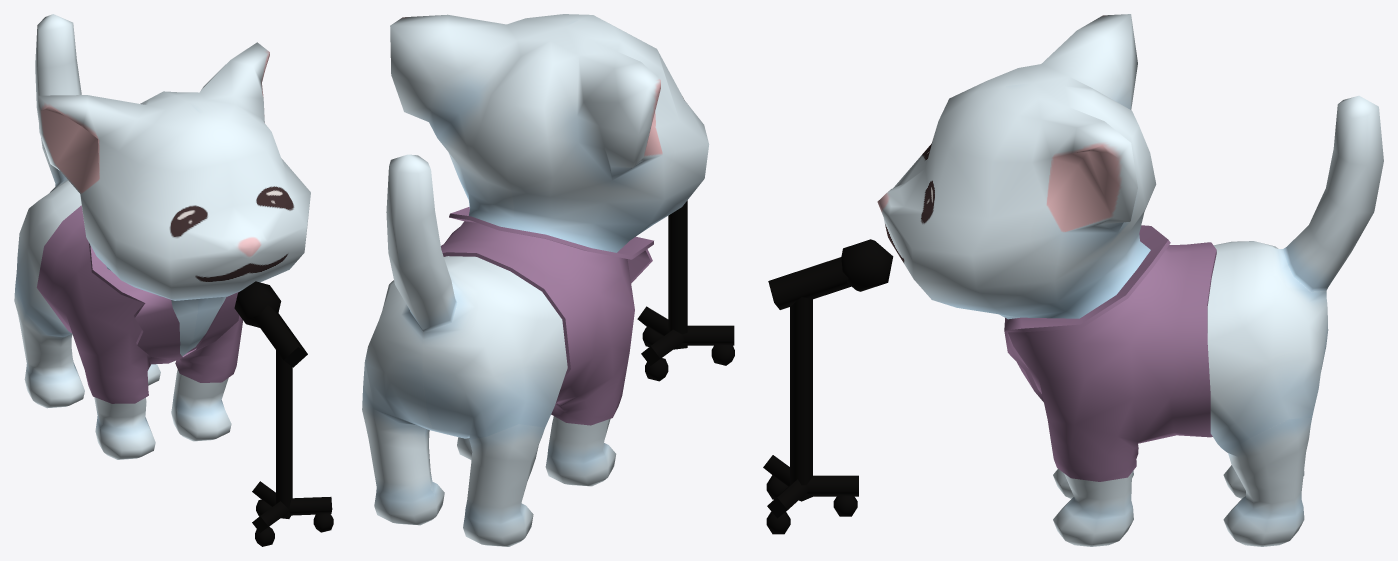
Rendered from Singer Cat05.fbx.
The picture shows the model from 3 angles, left to right: view 1: azimuth 30°, elevation 25°; view 2: azimuth 150°, elevation 25°; view 3: azimuth 270°, elevation 25°; orthographic projection. The views are drawn at different scales.
Visible parts, largest first — view 1: Cat_Base004, TS_Cat_Shirt, Singer_Cat_Mic; view 2: Cat_Base004, TS_Cat_Shirt, Singer_Cat_Mic; view 3: Cat_Base004, TS_Cat_Shirt, Singer_Cat_Mic.
Part boxes in pixels (x1=…): Cat_Base004: x1=14, y1=14, x2=310, y2=459; TS_Cat_Shirt: x1=36, y1=205, x2=242, y2=403; Singer_Cat_Mic: x1=234, y1=281, x2=333, y2=546; Cat_Base004: x1=362, y1=14, x2=709, y2=546; TS_Cat_Shirt: x1=441, y1=206, x2=653, y2=425; Singer_Cat_Mic: x1=637, y1=200, x2=734, y2=381; Cat_Base004: x1=877, y1=14, x2=1383, y2=546; TS_Cat_Shirt: x1=1004, y1=225, x2=1216, y2=481; Singer_Cat_Mic: x1=763, y1=239, x2=893, y2=534.
Size of the model in its own units: 1.75 by 3.47 by 2.68.
Materials: 4 (1 with a texture image).
